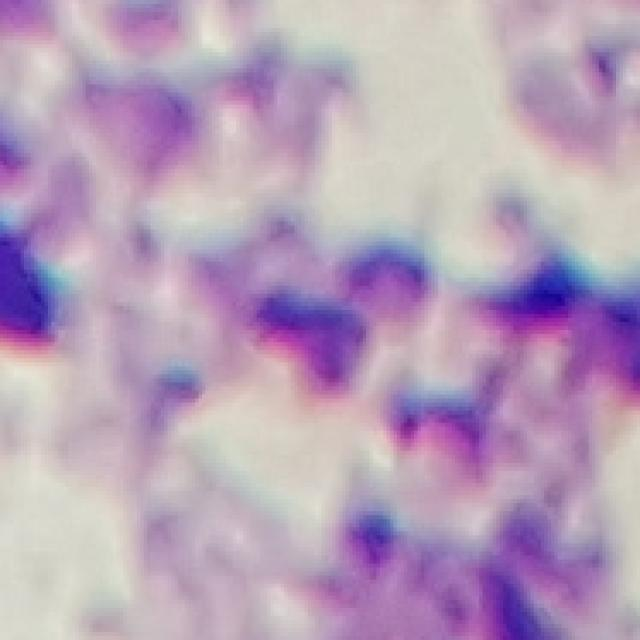non-sperm: (249, 231, 446, 399)
